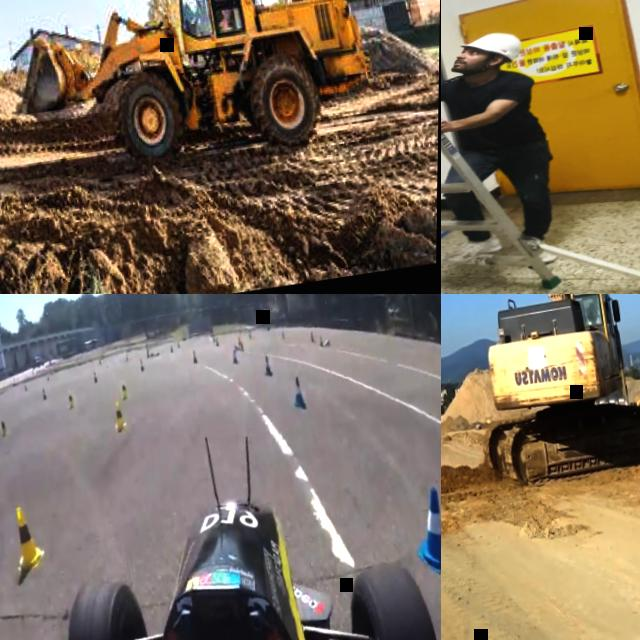Hardhat: (461, 29, 523, 69)
NO-Mask: (451, 57, 484, 76)
NO-Safety Vest: (441, 69, 537, 152)
Person: (441, 24, 566, 279), (586, 303, 604, 326)
Safety Cone: (413, 476, 441, 569), (14, 504, 45, 569), (111, 396, 131, 435), (288, 374, 310, 407), (263, 350, 276, 385), (0, 418, 11, 438), (65, 389, 75, 410), (121, 382, 129, 401), (191, 346, 199, 364), (232, 350, 240, 364), (319, 334, 325, 350), (42, 386, 48, 401), (139, 358, 145, 372), (234, 342, 242, 351), (240, 339, 245, 352), (324, 337, 331, 346), (281, 330, 286, 340), (248, 330, 253, 340), (94, 371, 98, 382), (147, 348, 151, 358), (216, 337, 220, 346), (25, 383, 29, 392), (170, 345, 174, 353), (178, 341, 181, 348), (214, 335, 216, 342)
Safety Vest: (589, 314, 602, 325)
vehicle: (11, 467, 441, 640), (0, 0, 380, 190), (445, 294, 640, 494)
